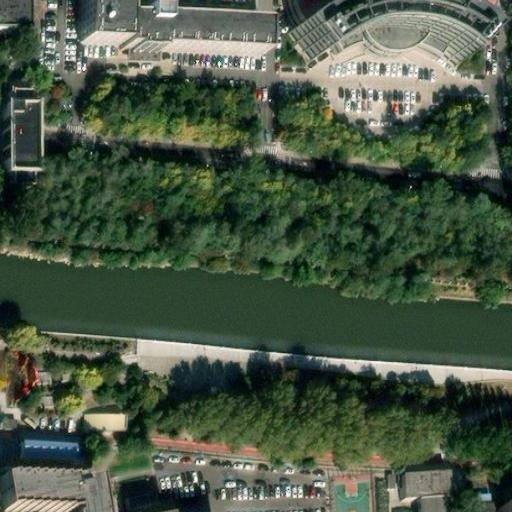building: (291, 0, 481, 64), (121, 14, 261, 55), (3, 81, 38, 170), (395, 479, 443, 512), (13, 445, 69, 470), (447, 0, 488, 29), (122, 492, 177, 512), (80, 406, 126, 429), (495, 488, 511, 512), (472, 506, 493, 512)
